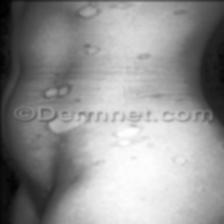Non-Cancerous Skin Condition: (50, 120, 204, 162), (72, 0, 130, 31), (32, 78, 86, 102), (166, 0, 202, 17), (131, 51, 165, 66), (77, 43, 113, 55)
